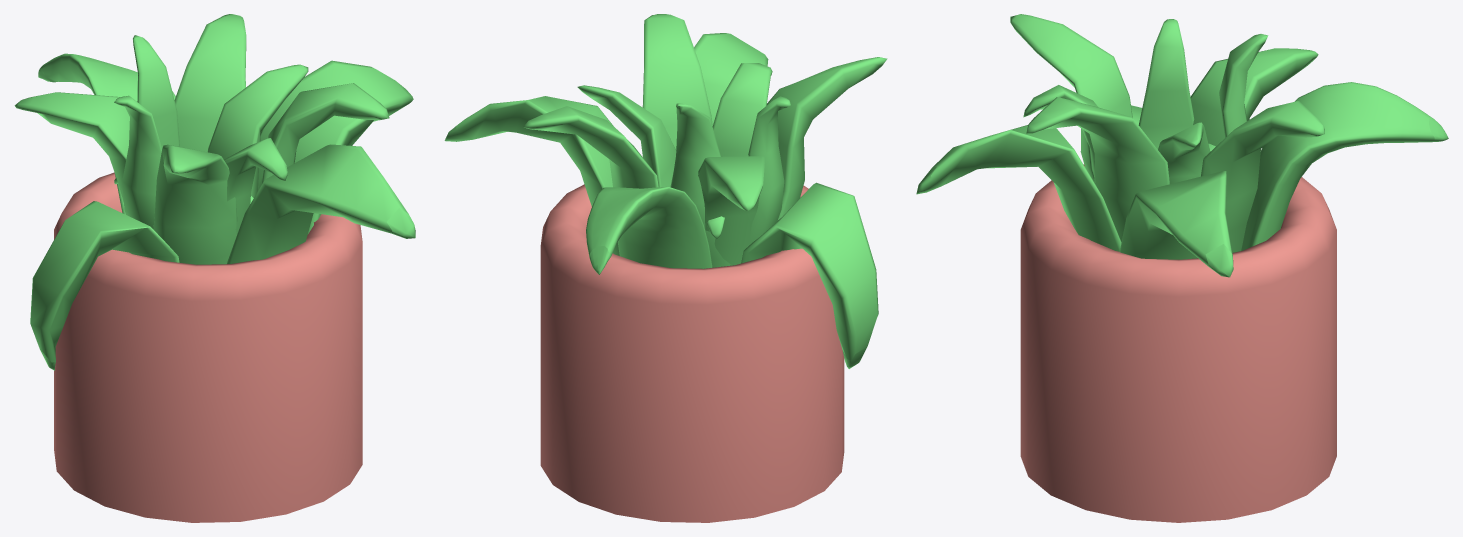
The model's file is Plantas.fbx.
3 renders of one model, left to right at view 1: azimuth 30°, elevation 25°; view 2: azimuth 150°, elevation 25°; view 3: azimuth 270°, elevation 25°, orthographic. The views are drawn at different scales.
Visible parts, largest first — view 1: Planta.001; view 2: Planta.001; view 3: Planta.001.
Part boxes in pixels (bbox=[...]): Planta.001: bbox=[14, 14, 415, 522]; Planta.001: bbox=[444, 14, 887, 522]; Planta.001: bbox=[916, 14, 1448, 522].
Bounding box in the file's own units: 1.45 × 1.62 × 1.36.
